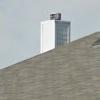Chimney: (32, 9, 74, 55)
